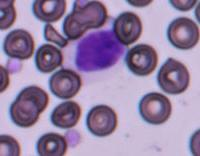L: (72, 27, 127, 78)
